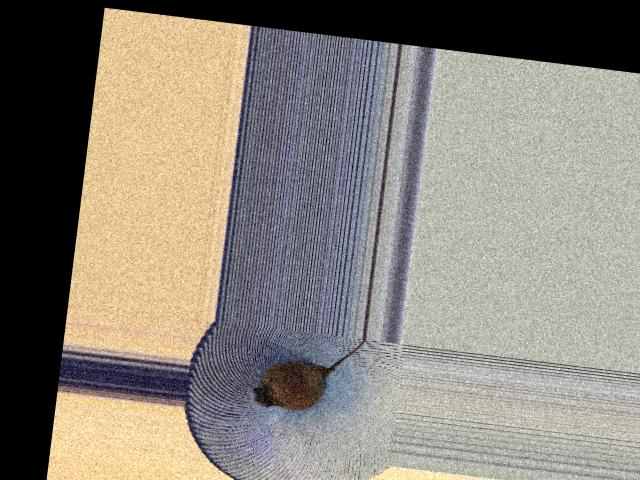beet: (250, 325, 365, 417)
